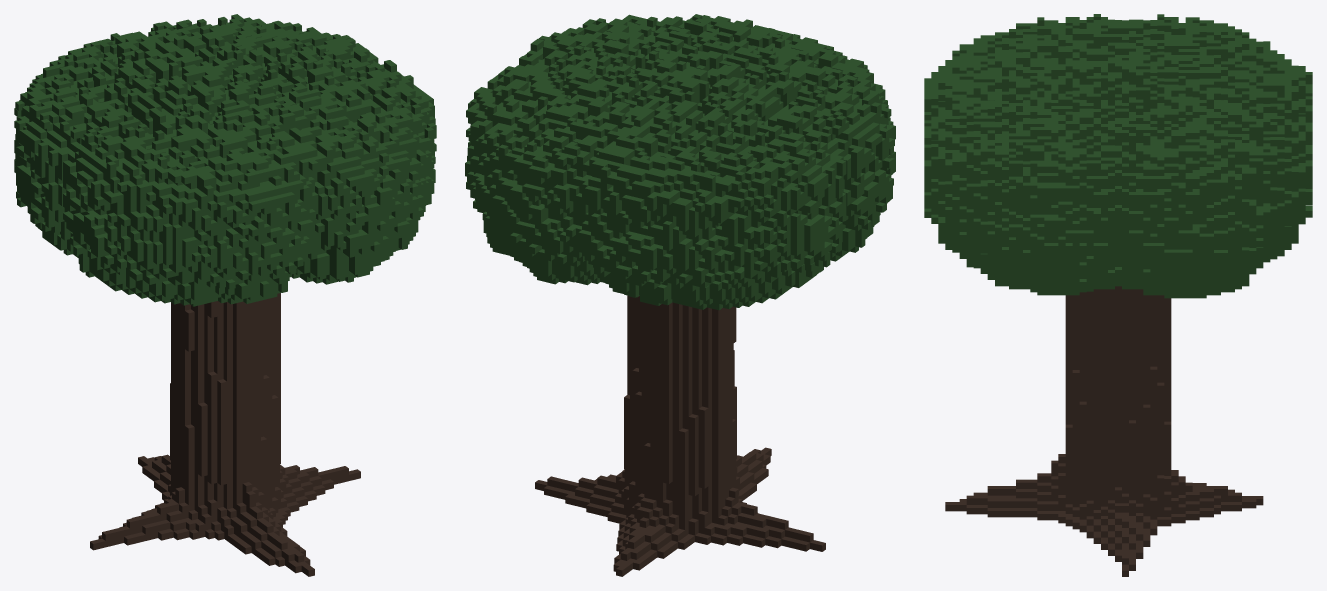
The model's file is Tree 1.obj.
The picture shows the model from 3 angles, left to right: view 1: azimuth 30°, elevation 25°; view 2: azimuth 150°, elevation 25°; view 3: azimuth 270°, elevation 25°; orthographic projection.
Bounding box in the file's own units: 5.5 × 6.9 × 5.5.
Materials: 1 (1 with a texture image).
